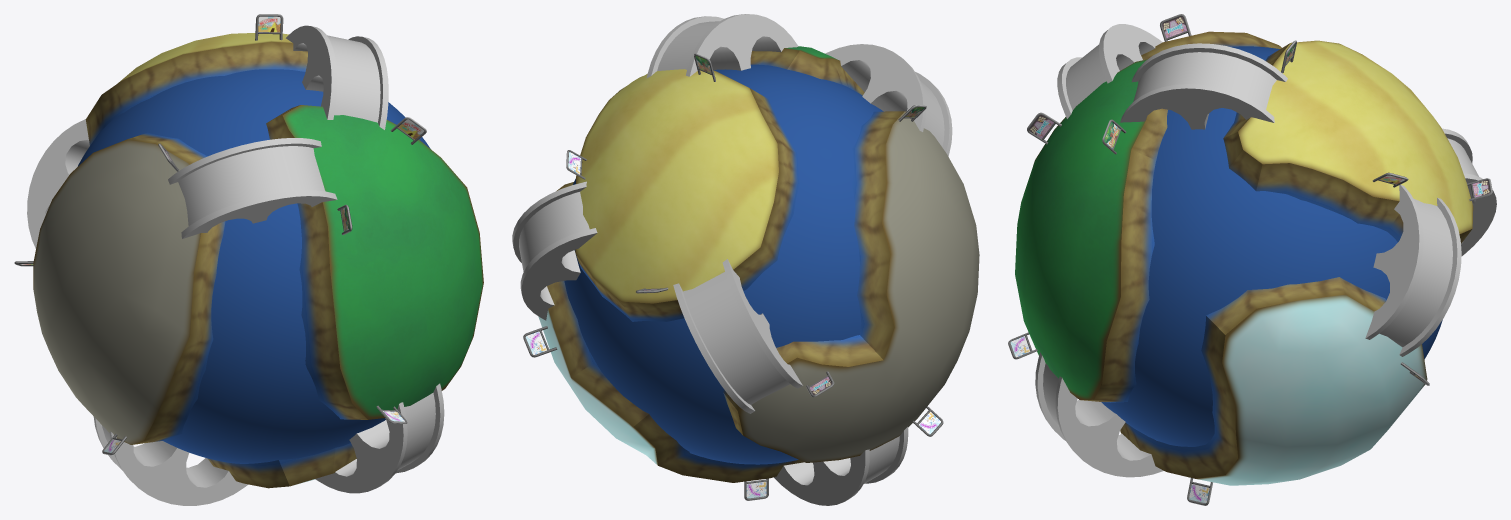
File: planet.fbx
3 views of the same model, side by side, from view 1: azimuth 30°, elevation 25°; view 2: azimuth 150°, elevation 25°; view 3: azimuth 270°, elevation 25° (orthographic). The views are drawn at different scales.
Parts seen in each view (by area): view 1: greenIsland_mesh, townIsland_mesh, sea_mesh, bridge_mesh (×5), desertIsland_mesh, snowIsland_mesh; view 2: townIsland_mesh, desertIsland_mesh, sea_mesh, bridge_mesh (×5), snowIsland_mesh, greenIsland_mesh; view 3: sea_mesh, snowIsland_mesh, greenIsland_mesh, bridge_mesh (×5), desertIsland_mesh, townIsland_mesh.
Boxes of the visible parts, <box> form: greenIsland_mesh: <box>266,105,483,419</box>; townIsland_mesh: <box>33,132,225,444</box>; sea_mesh: <box>78,69,430,463</box>; bridge_mesh (×5): <box>27,25,444,505</box>; desertIsland_mesh: <box>85,33,307,145</box>; snowIsland_mesh: <box>208,443,356,488</box>; townIsland_mesh: <box>723,111,979,462</box>; desertIsland_mesh: <box>575,69,799,321</box>; sea_mesh: <box>564,64,883,464</box>; bridge_mesh (×5): <box>512,14,952,505</box>; snowIsland_mesh: <box>538,182,803,482</box>; greenIsland_mesh: <box>750,46,864,95</box>; sea_mesh: <box>1101,46,1442,446</box>; snowIsland_mesh: <box>1120,277,1427,485</box>; greenIsland_mesh: <box>1015,59,1167,402</box>; bridge_mesh (×5): <box>1035,24,1496,477</box>; desertIsland_mesh: <box>1223,40,1473,243</box>; townIsland_mesh: <box>1141,31,1281,59</box>.
Size of what is drawn, in the model's own units: 5573 by 6136 by 5889.
